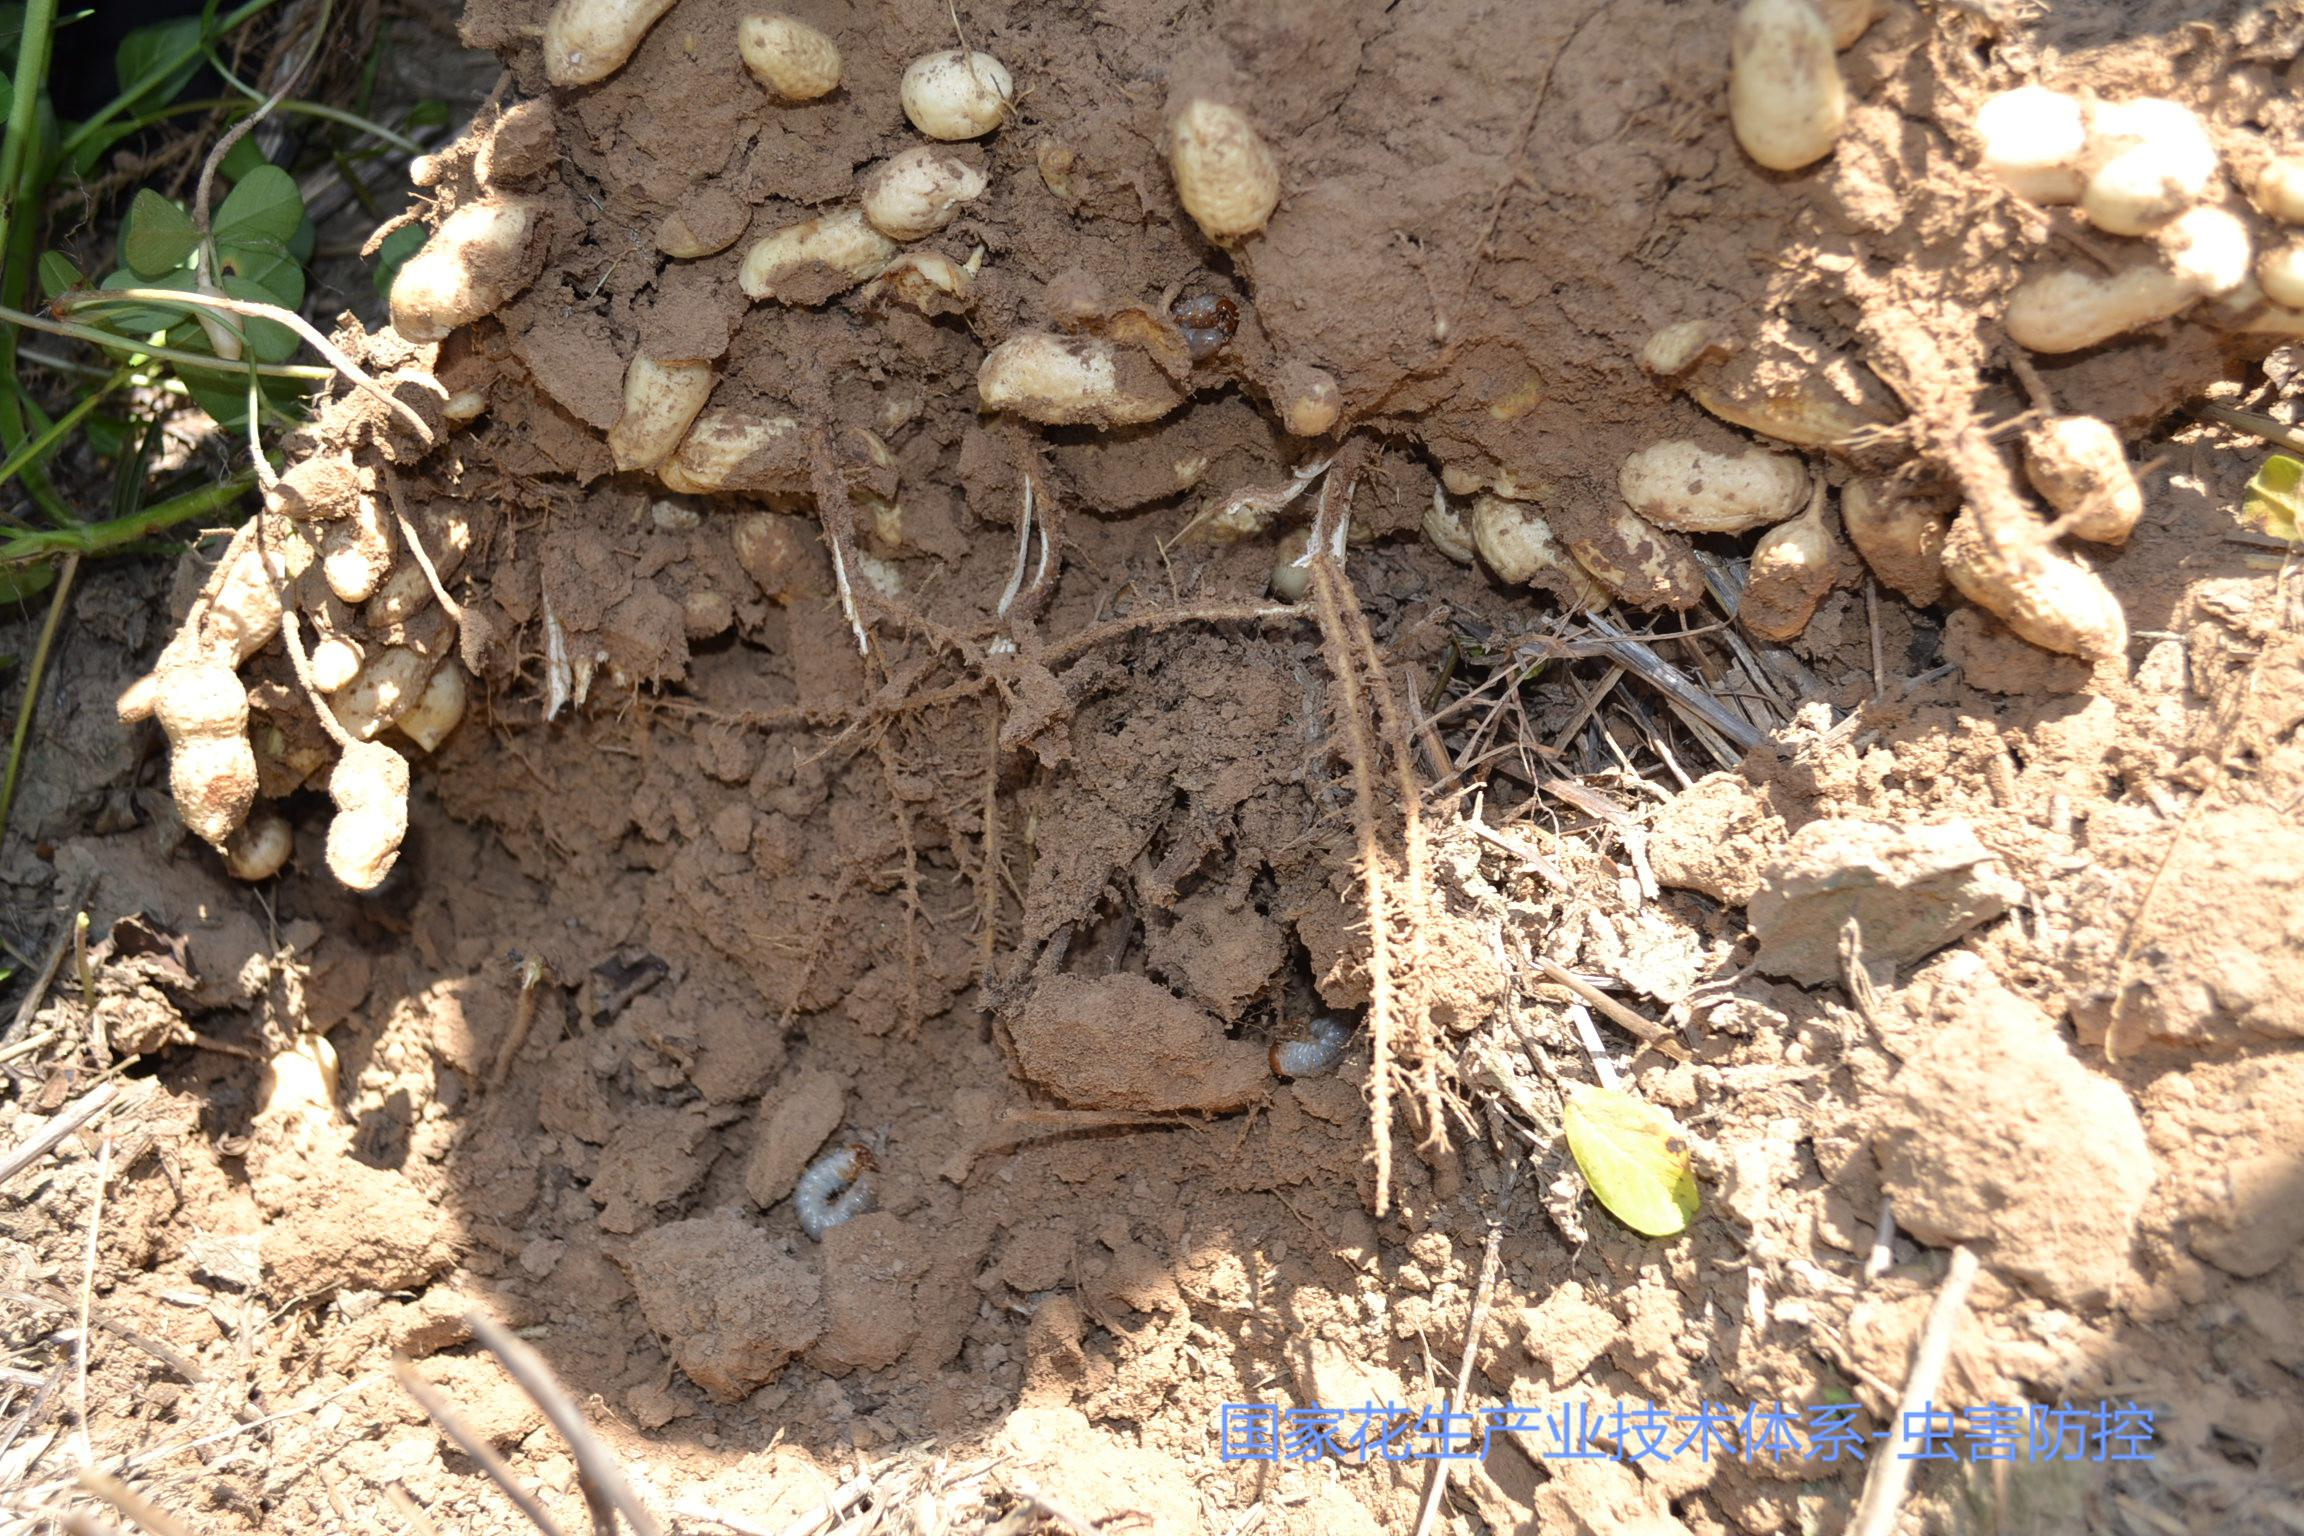grub: (783, 1142, 915, 1248)
